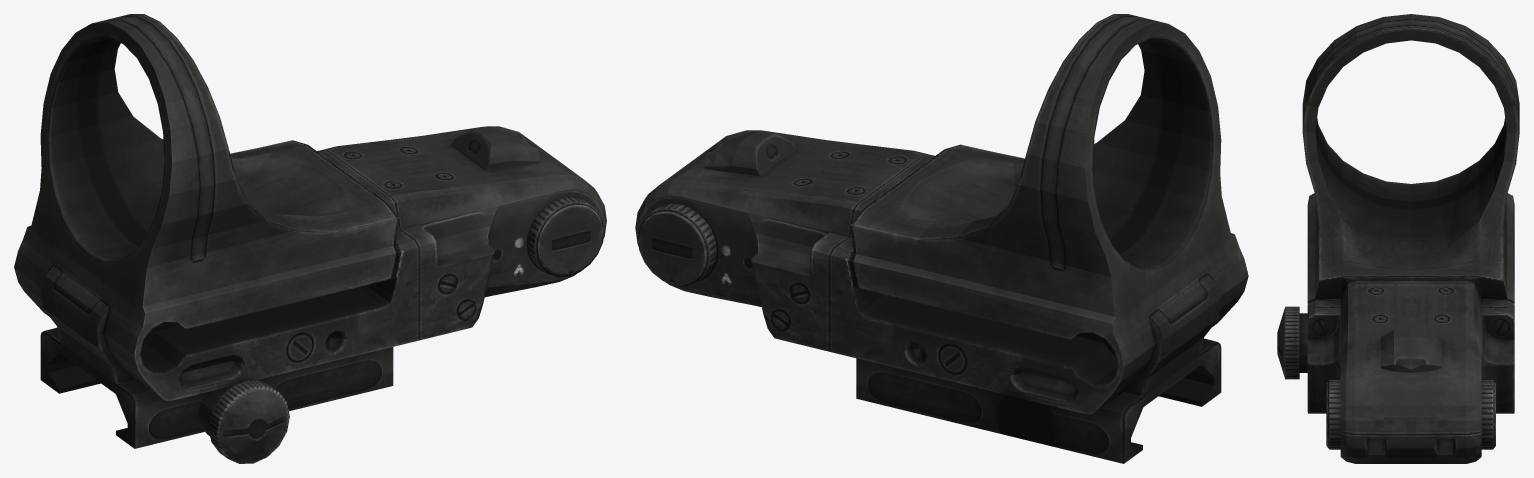
The model's file is RDS1.fbx.
The picture shows the model from 3 angles, left to right: view 1: azimuth 30°, elevation 25°; view 2: azimuth 150°, elevation 25°; view 3: azimuth 270°, elevation 25°; orthographic projection. The views are drawn at different scales.
Visible parts, largest first — view 1: RDS1; view 2: RDS1; view 3: RDS1.
Part boxes in pixels (left/top/right/bottom): RDS1: left=14, top=14, right=606, bottom=463; RDS1: left=635, top=14, right=1248, bottom=463; RDS1: left=1277, top=14, right=1519, bottom=463.
Bounding box in the file's own units: 2.01 × 1.5 × 0.9735.
